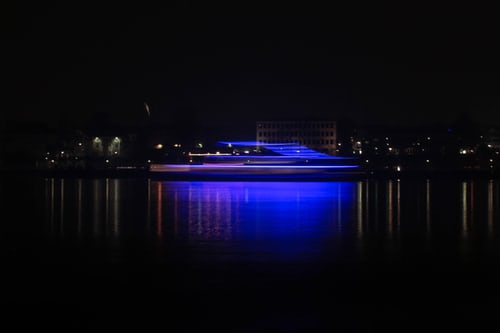yacht: (142, 120, 385, 193)
